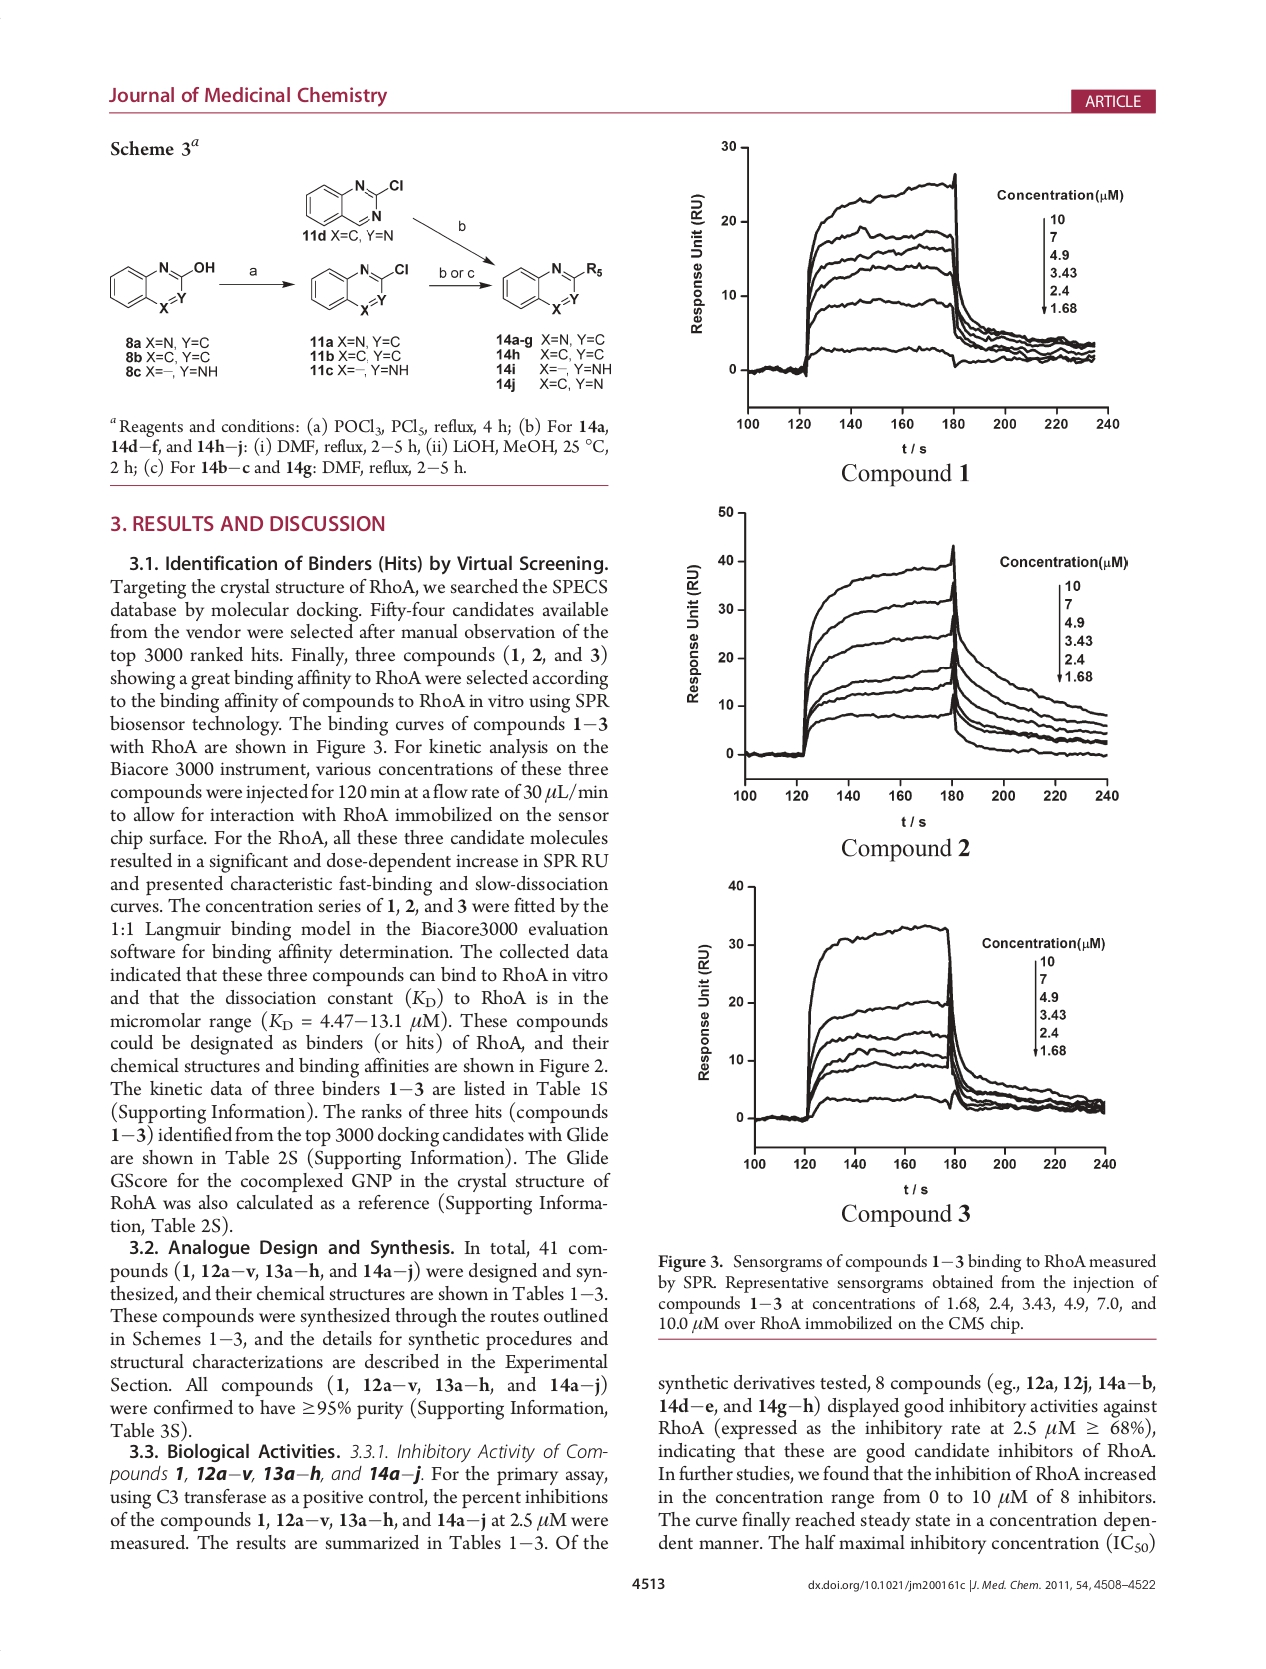exist_molecular: (105, 258, 217, 314), (500, 258, 605, 317), (299, 174, 407, 229), (309, 259, 410, 317)
